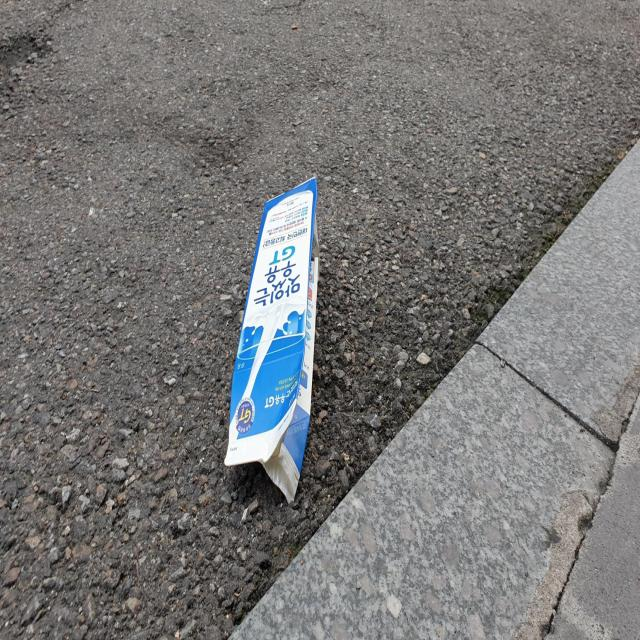paperpack: (224, 177, 319, 503)
